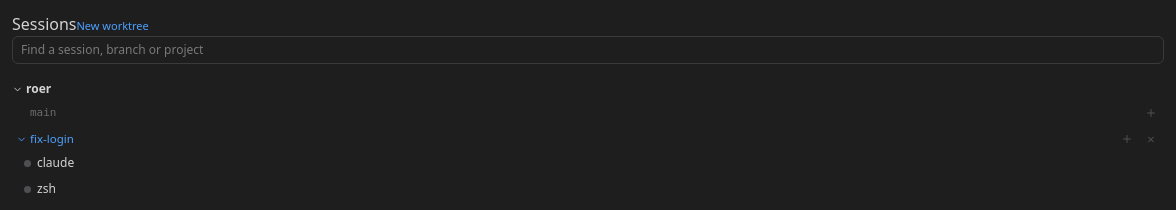
Test: the session tree › folds a branch and a project, saying how much is hidden and that one waits
Expected: the button titled "s%3 " is shown, left=12, top=150, right=1164, bottom=176
Click the button "fix-login" at {"x": 52, "y": 139}, box left=16, top=130, right=1112, bottom=148
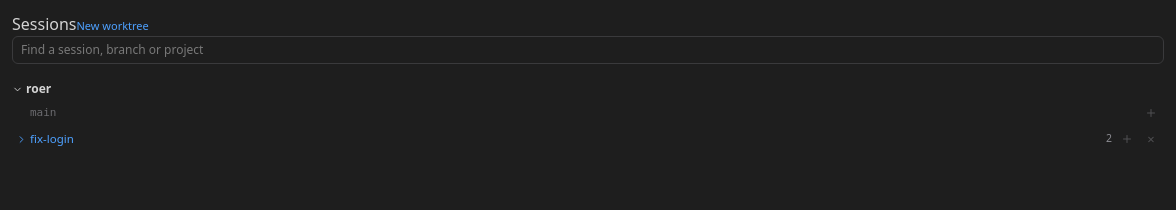
Now the text titled "2 hidden" is shown, box left=1106, top=131, right=1112, bottom=145
Click the button "roer" at {"x": 18, "y": 89}, box left=12, top=80, right=1164, bottom=98
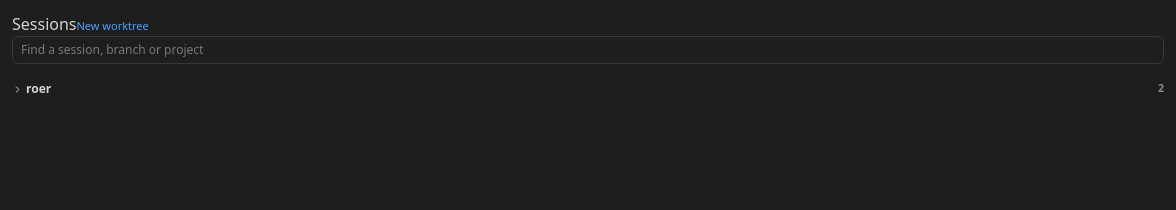
Now the button "fix-login" is gone
